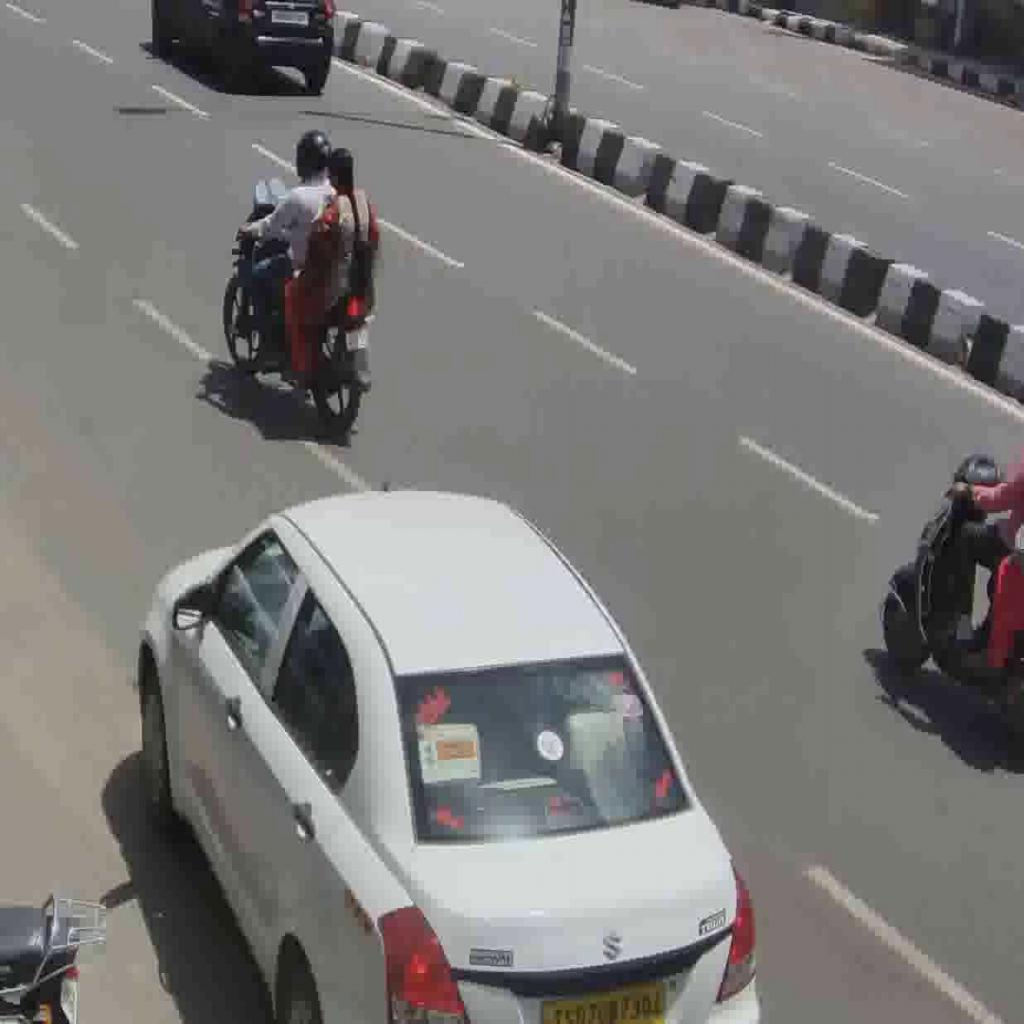helmet: (880, 446, 1024, 714), (222, 201, 376, 432)
